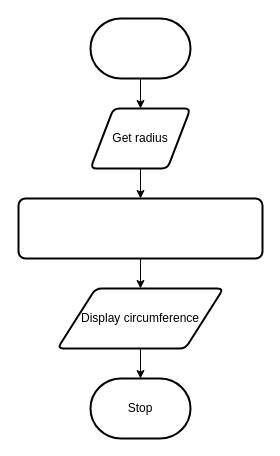
This 280x456 diagram has some shape labels left out. Here are the shapes that lost their labels. From the top down, the centre of each, then its label:
At point (140, 48): "Start".
At point (140, 228): "circumference = radius * tau".
